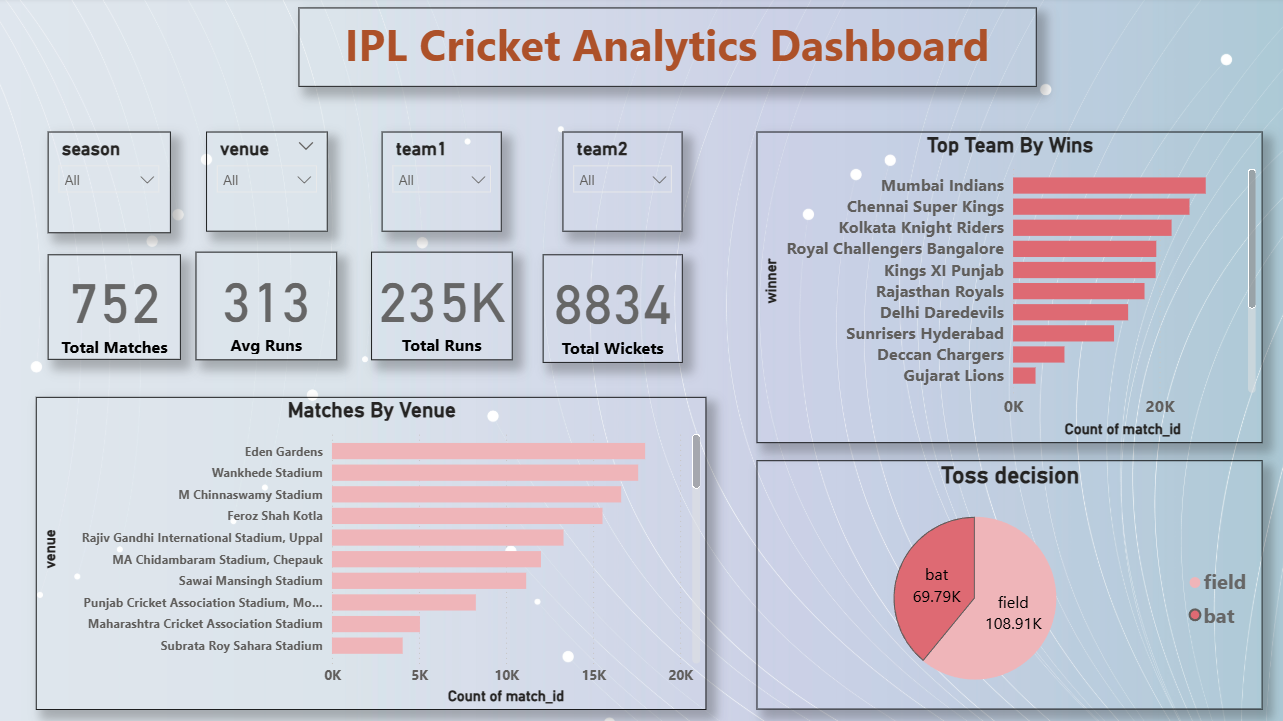

The page's visual inventory and layout, read from the dashboard file:
{"tool":"powerbi","page":{"name":"Match Overview","canvas":[1280,720],"ordinal":0},"visuals":[{"type":"card","fields":{"Values":["silver_deliveries.Total Matches"]},"box":[0,0,139.7,103.6],"z":0},{"type":"card","fields":{"Values":["silver_deliveries.Total Runs"]},"box":[0,117.1,139.7,118.6],"z":1},{"type":"card","fields":{"Values":["silver_deliveries.Total Wickets"]},"box":[153.2,0,163.7,103.6],"z":2},{"type":"card","fields":{"Values":["silver_deliveries.Avg Runs"]},"box":[147.2,126.2,175.7,109.6],"z":3},{"type":"barChart","title":"Top Team By Wins","fields":{"Category":["silver_matches.winner"],"Y":["CountNonNull(silver_deliveries.match_id)"]},"box":[693.9,24,585.7,306.4],"z":4},{"type":"barChart","title":"Matches By Venue","fields":{"Category":["silver_matches.venue"],"Y":["CountNonNull(silver_deliveries.match_id)"]},"box":[9.2,378.8,616.3,308.8],"z":5},{"type":"pieChart","title":"Toss_decision","fields":{"Category":["silver_matches.toss_decision"],"Y":["CountNonNull(silver_deliveries.match_id)"]},"box":[750.9,401.2,427.6,245.5],"z":6},{"type":"slicer","fields":{"Values":["silver_matches.season"]},"box":[381.5,13.5,118.6,99.1],"z":7},{"type":"slicer","fields":{"Values":["silver_matches.team2"]},"box":[371,177.2,118.6,99.1],"z":8},{"type":"slicer","fields":{"Values":["silver_matches.team1"]},"box":[531.7,24,118.6,99.1],"z":9},{"type":"slicer","fields":{"Values":["silver_matches.venue"]},"box":[531.7,186.2,120.1,99.1],"z":10}]}

Visuals, with their boxes in screenshot pixels (x1, y1, x2, y2), scaled from the page's 1280x720 canvas onto the 1283x721 screenshot:
card - silver_deliveries.Total Matches: region(0, 0, 140, 104)
card - silver_deliveries.Total Runs: region(0, 117, 140, 236)
card - silver_deliveries.Total Wickets: region(154, 0, 318, 104)
card - silver_deliveries.Avg Runs: region(148, 126, 324, 236)
"Top Team By Wins" barChart: region(696, 24, 1282, 331)
"Matches By Venue" barChart: region(9, 379, 627, 689)
"Toss_decision" pieChart: region(753, 402, 1181, 648)
slicer - silver_matches.season: region(382, 14, 501, 113)
slicer - silver_matches.team2: region(372, 177, 491, 277)
slicer - silver_matches.team1: region(533, 24, 652, 123)
slicer - silver_matches.venue: region(533, 186, 653, 286)
